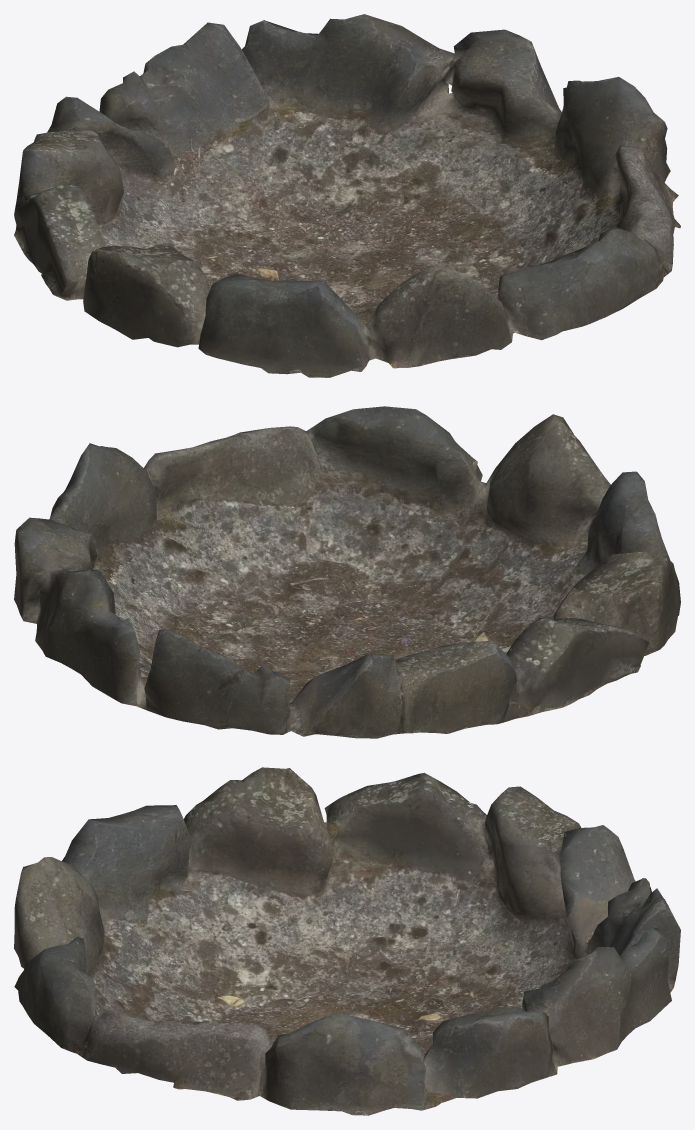
Rendered from stone_fire_pit.glb.
The picture shows the model from 3 angles, top to bottom: view 1: azimuth 30°, elevation 25°; view 2: azimuth 150°, elevation 25°; view 3: azimuth 270°, elevation 25°; orthographic projection.
Visible parts, largest first — view 1: stone_fire_pit; view 2: stone_fire_pit; view 3: stone_fire_pit.
Part boxes in pixels (x1=…): stone_fire_pit: x1=14, y1=14, x2=680, y2=377; stone_fire_pit: x1=14, y1=406, x2=680, y2=738; stone_fire_pit: x1=14, y1=767, x2=680, y2=1115.
Bounding box in the file's own units: 1.45 × 0.3883 × 1.43.
Materials: 1 (1 with a texture image).
